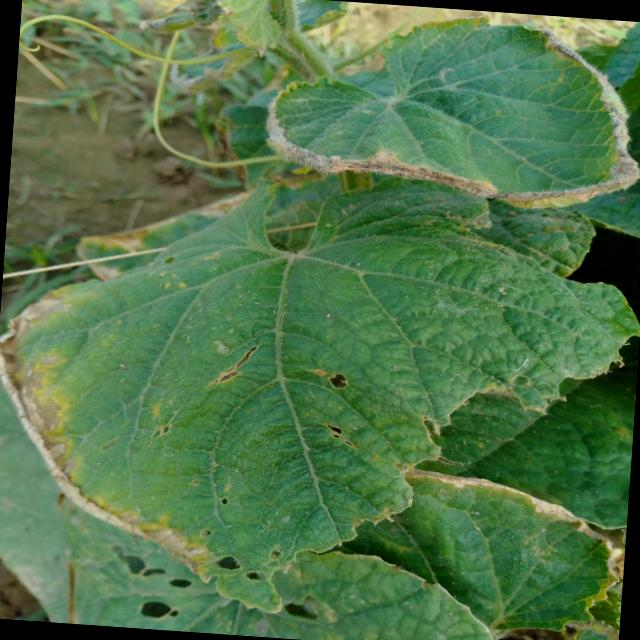cucumber_gummy: (0, 152, 640, 639), (255, 0, 640, 222), (360, 458, 629, 640)
